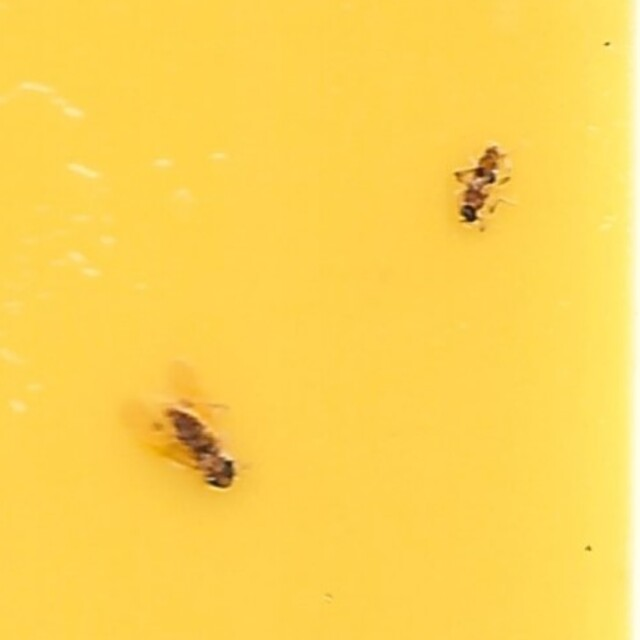Brachycera: (454, 142, 509, 232)
Hemiptera: (131, 367, 244, 498)
